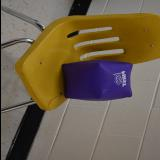cube: (61, 60, 133, 102)
